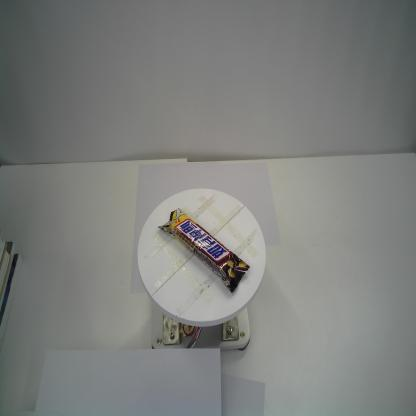Chocolate: (158, 208, 250, 293)
